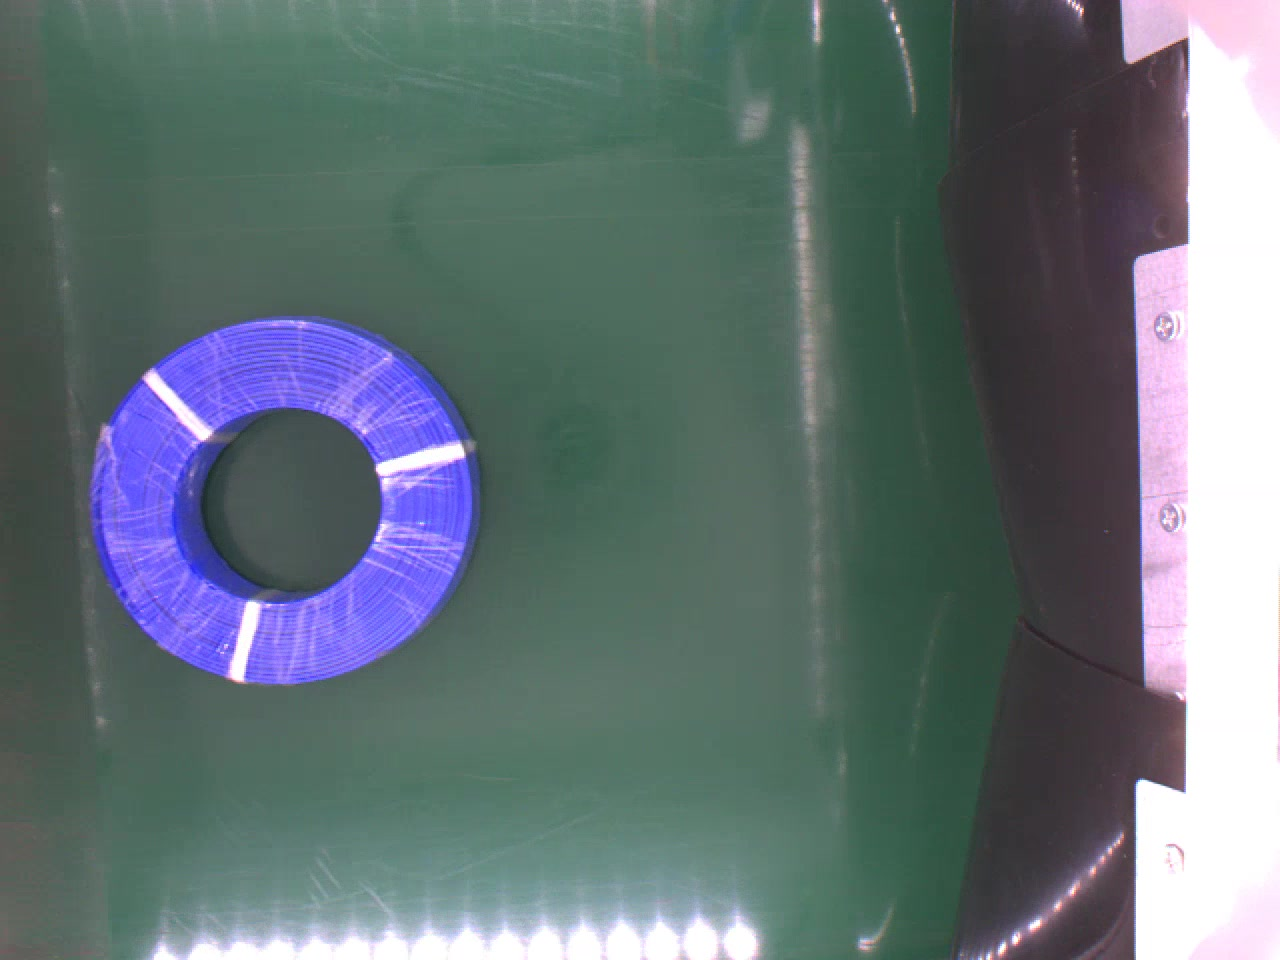blue: (91, 311, 486, 687)
